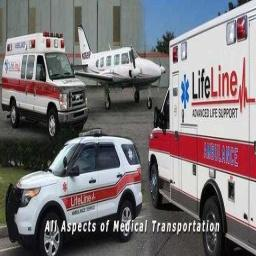ambulance: (149, 1, 255, 254), (2, 32, 87, 137)
